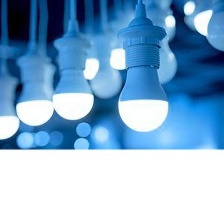light_bulb: (113, 49, 175, 138), (137, 18, 182, 88), (50, 61, 98, 124), (15, 74, 58, 127), (88, 42, 125, 102), (0, 81, 23, 141), (203, 0, 224, 58)
